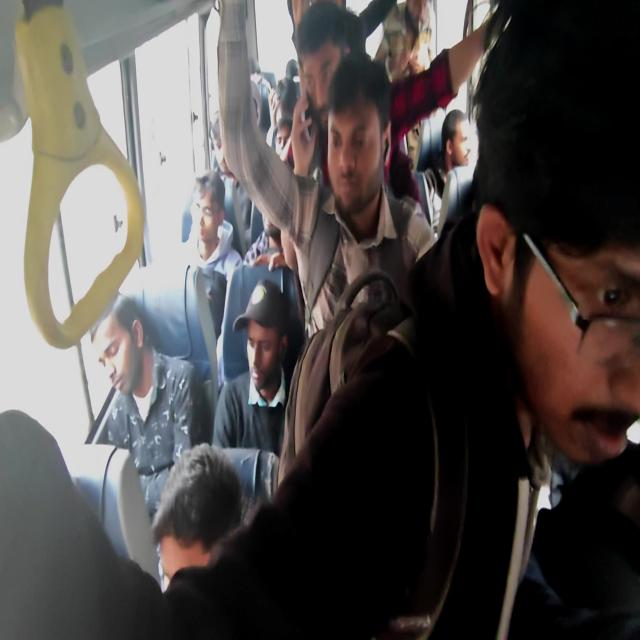person: (496, 39, 640, 480), (154, 463, 244, 592), (334, 92, 384, 218), (88, 303, 151, 389), (243, 286, 286, 387), (294, 33, 337, 106), (202, 114, 252, 173), (408, 1, 450, 49), (444, 120, 478, 178), (187, 181, 221, 237), (258, 196, 288, 250), (269, 125, 296, 174), (273, 79, 297, 112), (281, 47, 304, 77), (247, 57, 263, 82)
